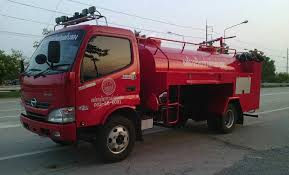truck: (19, 22, 262, 162)
